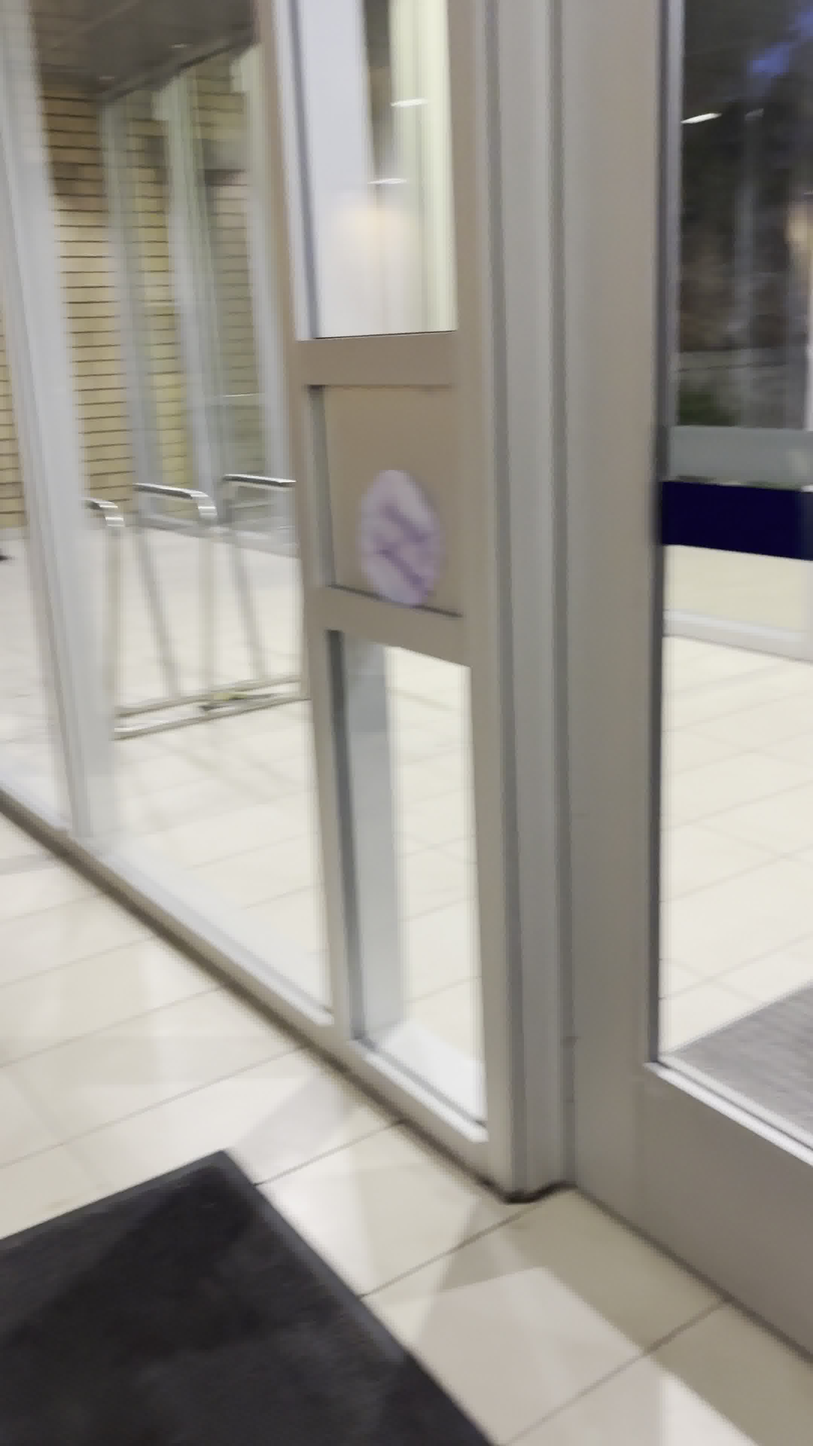Target: (345, 463, 453, 607)
